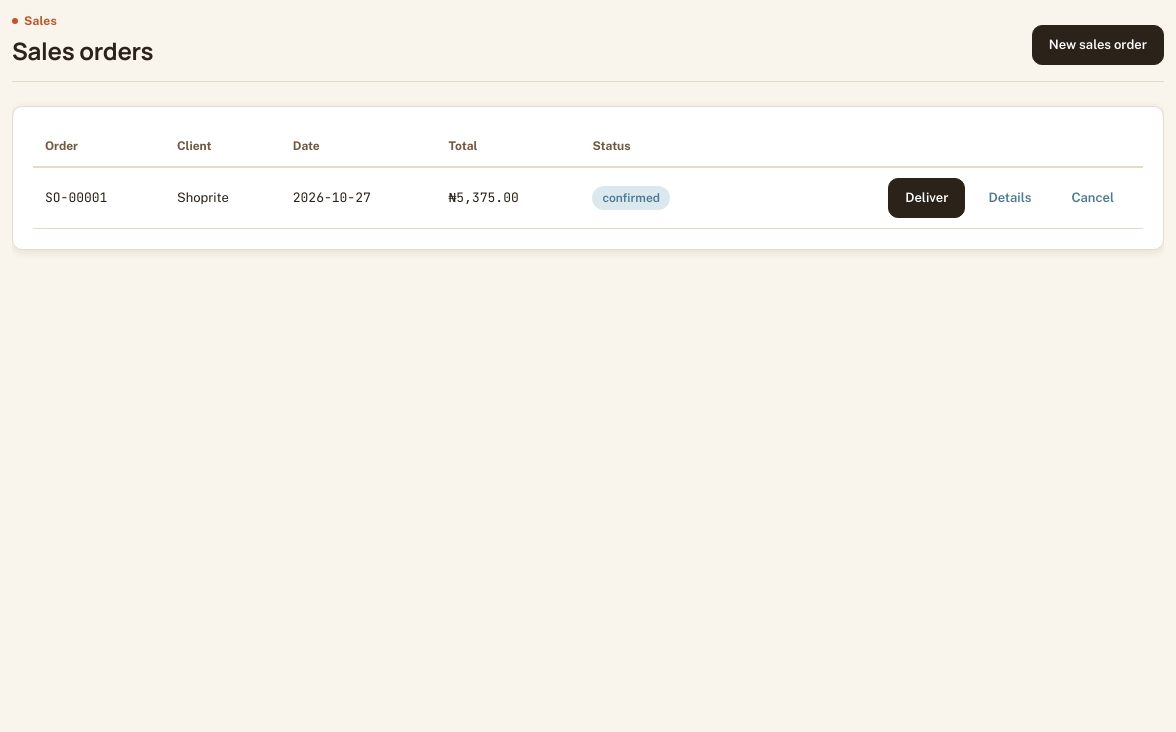
it: SalesOrdersPage › shows the server's reason when a delivery is short and keeps the panel open
Click the button "Deliver" at x=927, y=198, box [888,178,965,218]
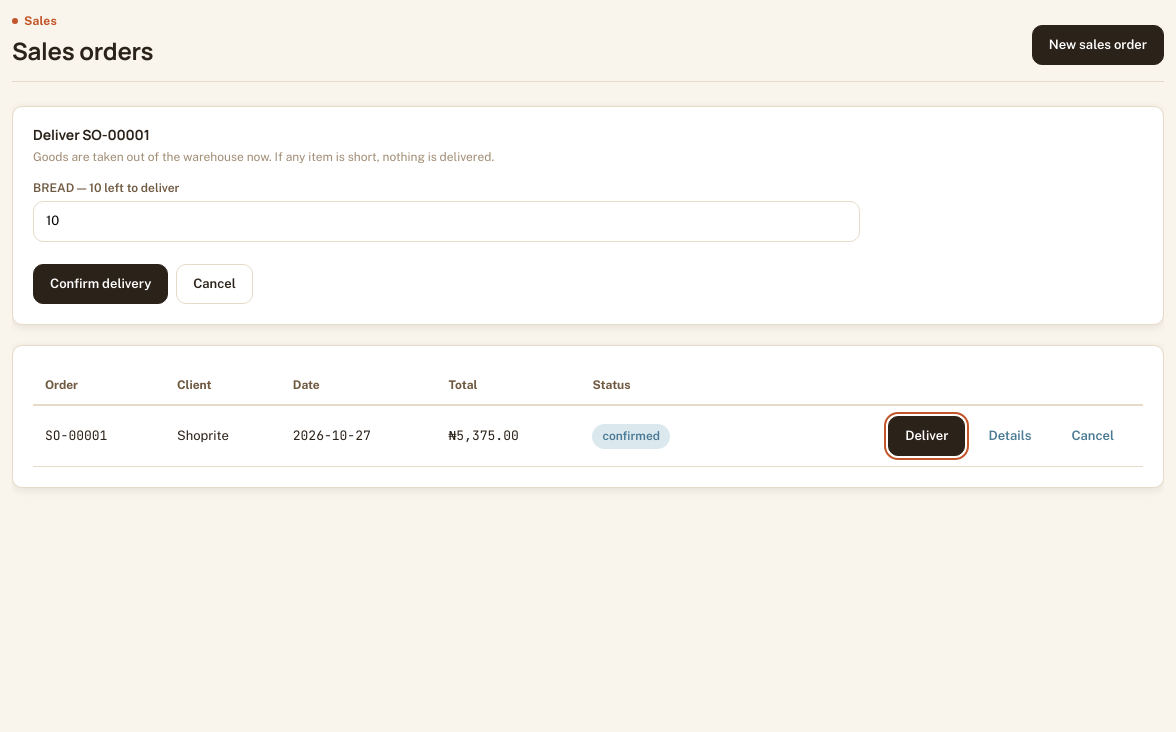
Click the button "Confirm delivery" at x=101, y=284, box [33,264,168,304]
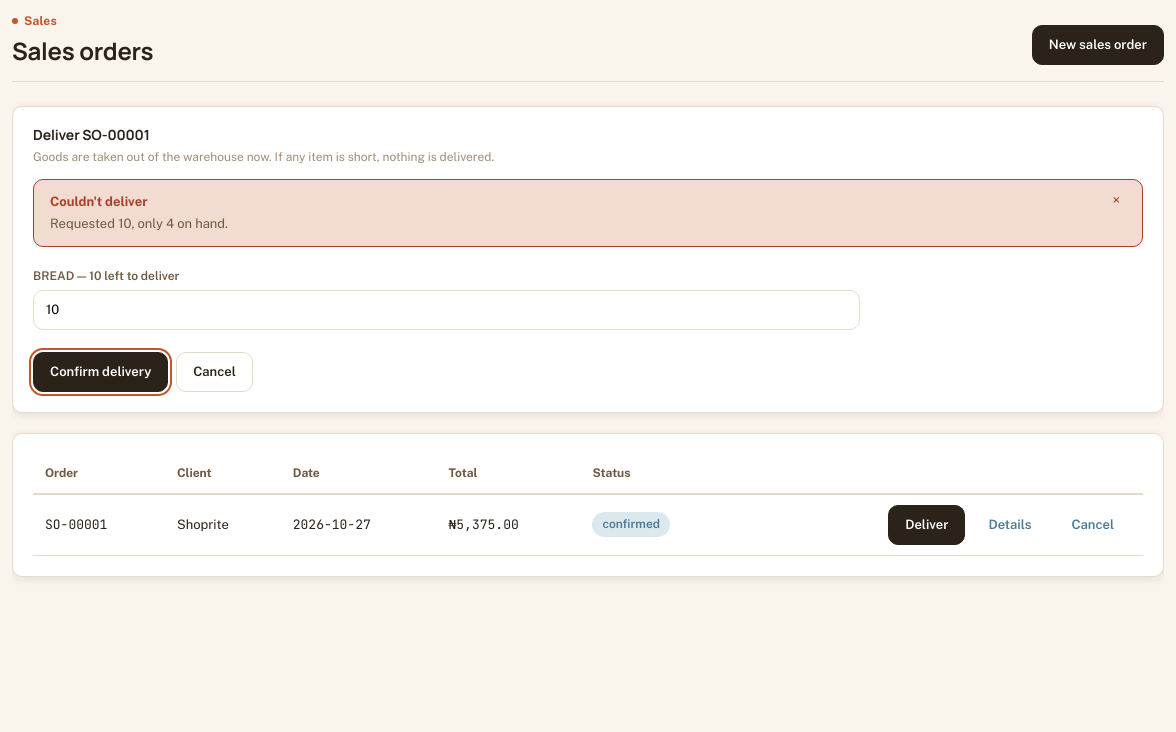
Result: the button "Confirm delivery" is shown at [33,352,168,392]
Result: the text "Requested 10, only 4 on hand." is shown at [50,214,228,234]
